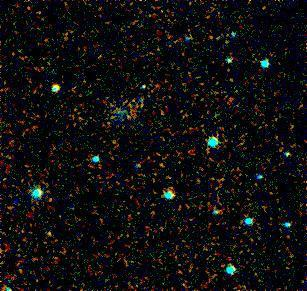star: (38, 218, 68, 248)
